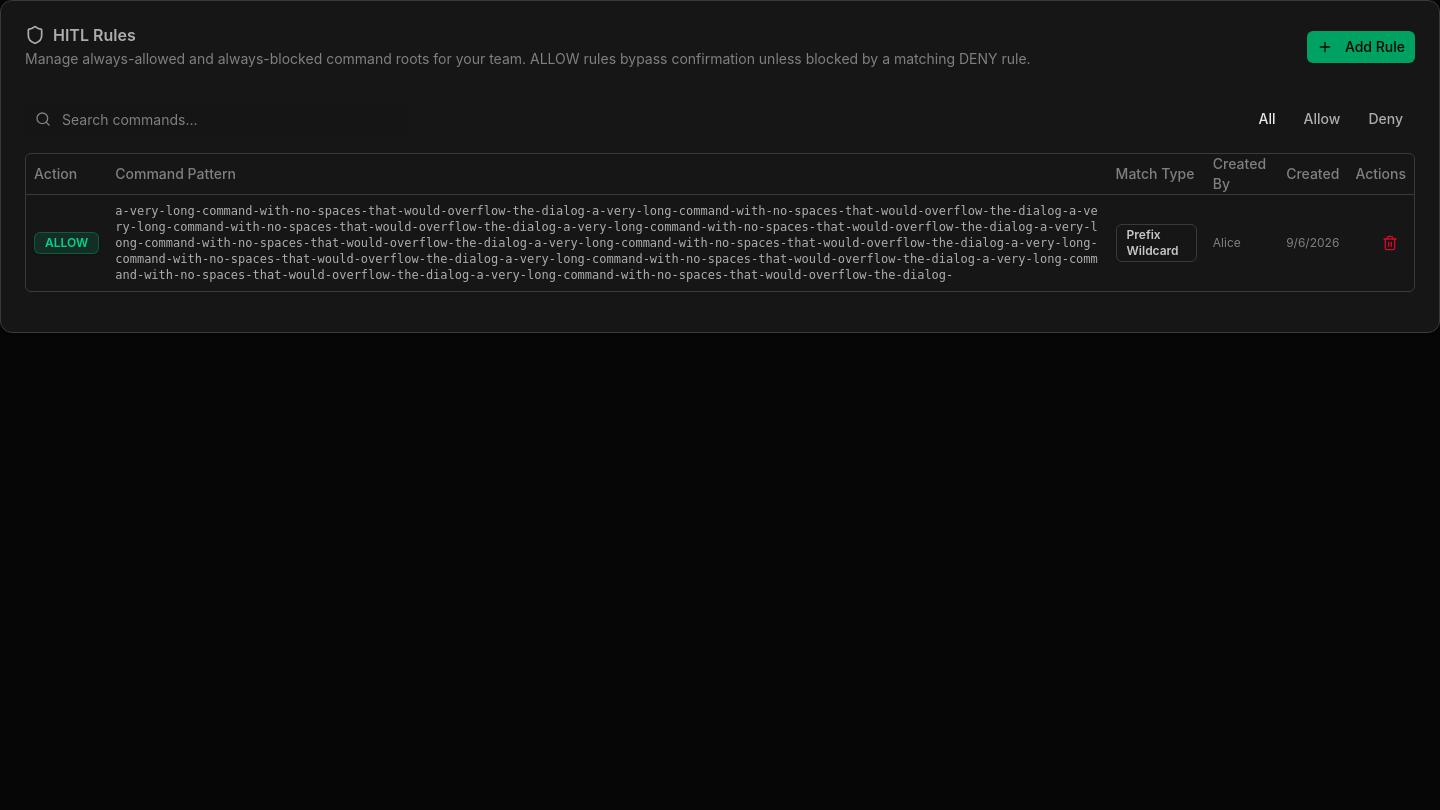
Test case: HitlRulesPanel › keeps delete actions visible for long commands via a scrollable section
The image size is (1440, 810).
Click the button named "Delete rule for a-very-long-command-with-no-spaces-that-woul" at (1390, 243), box 1374,227 -> 1406,259
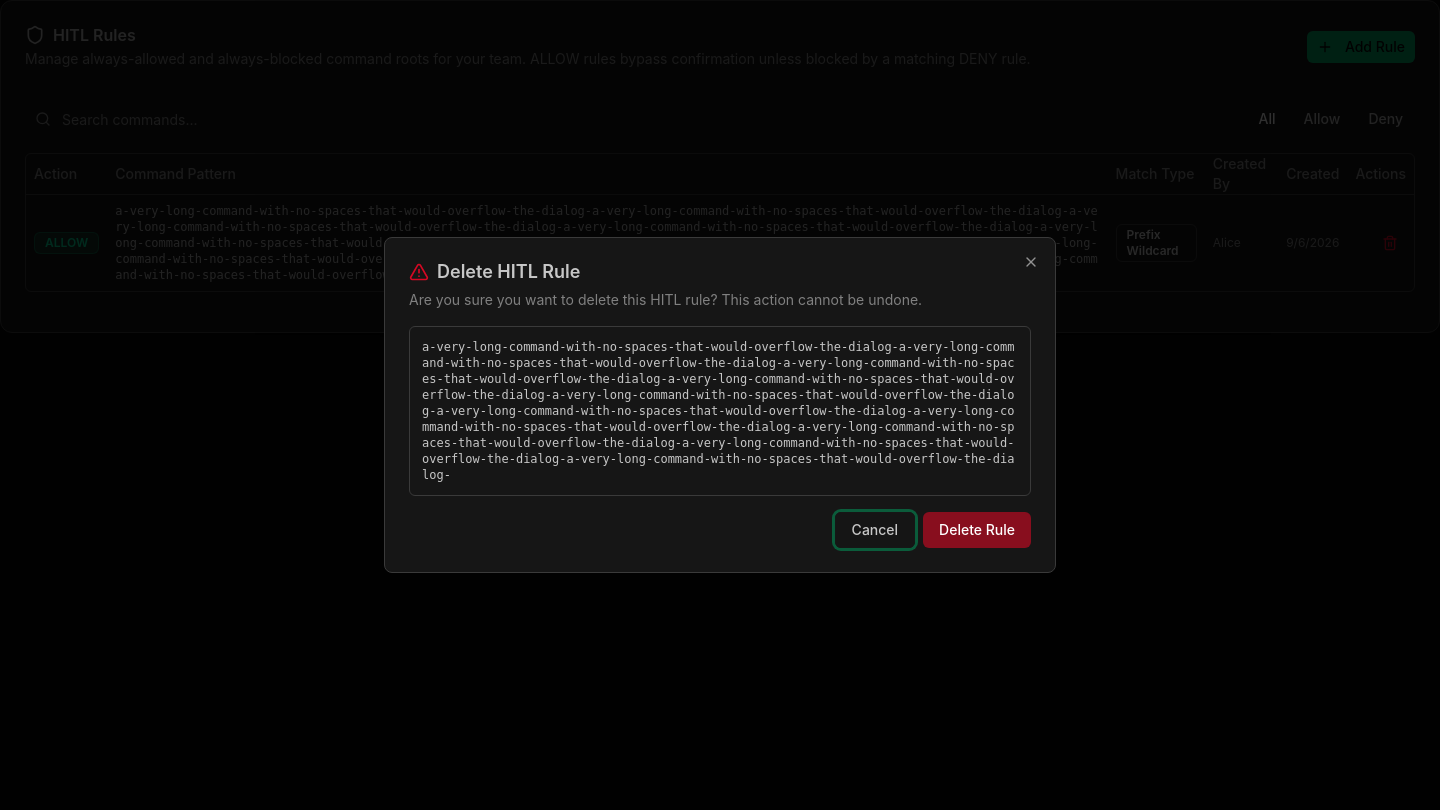
Expected: the heading "Delete HITL Rule" is shown, 437,263 -> 580,281
Expected: the button "Cancel" is shown, 835,512 -> 915,548
Expected: the button "Delete Rule" is shown, 923,512 -> 1031,548
